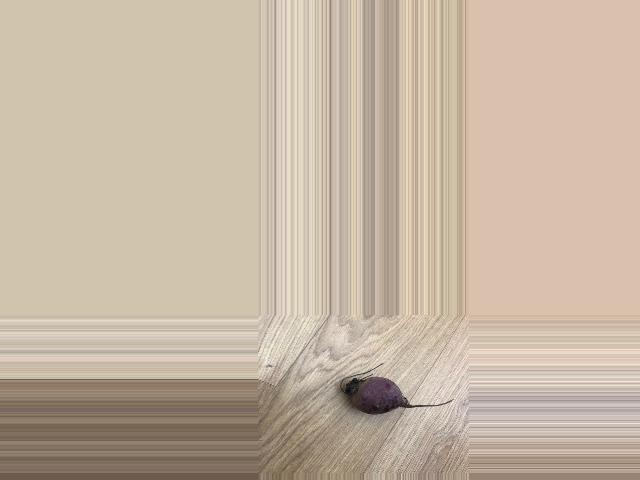beet: (340, 363, 454, 415)
